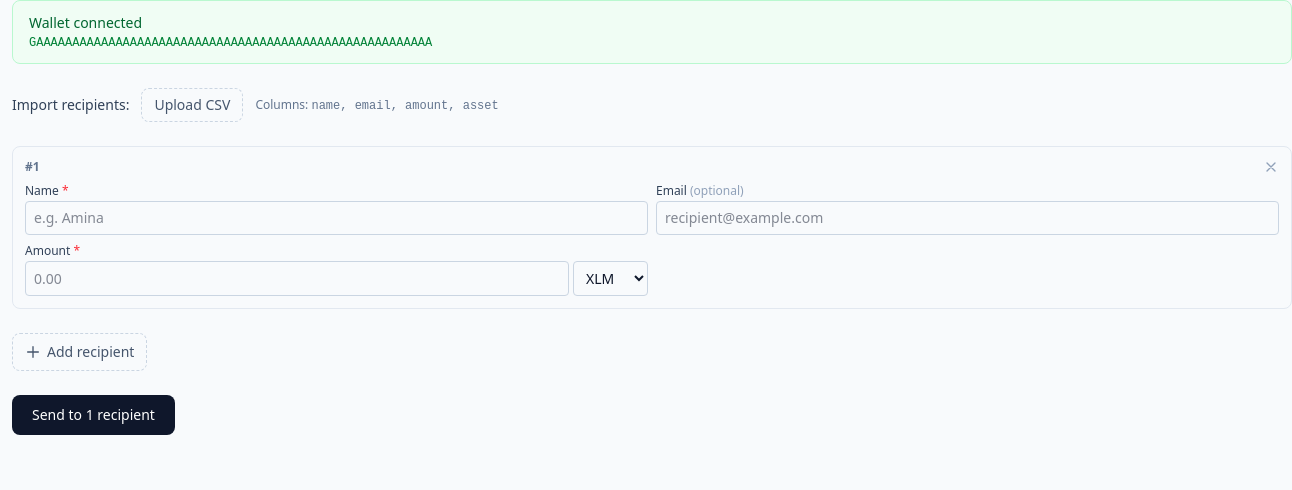
it: BatchSendForm › shows error state when account creation fails
Type "Bob" into the field labelled "Name *" at (336, 218), box [25, 201, 648, 235]
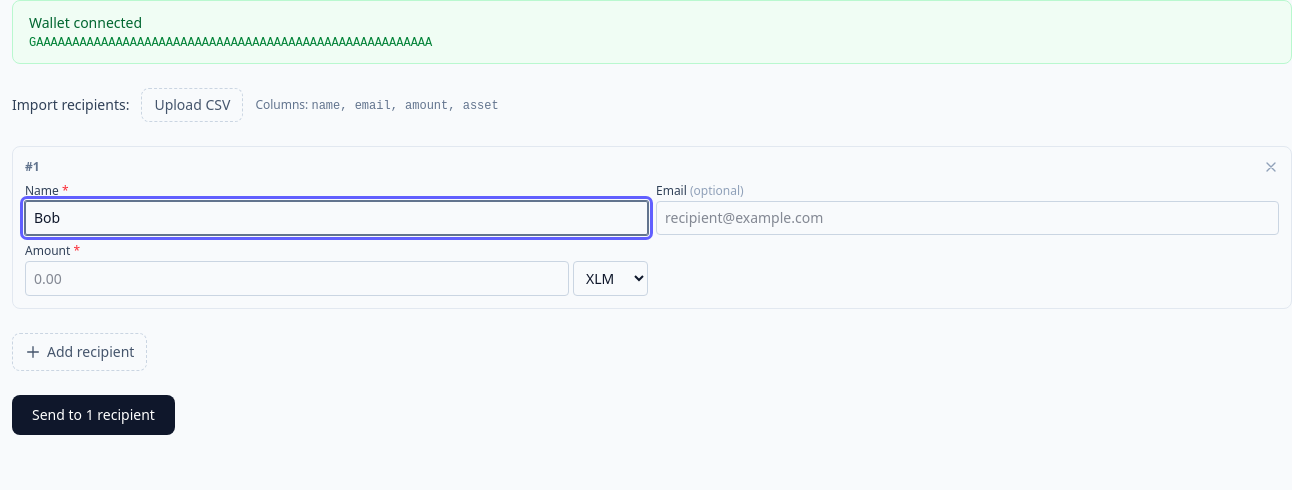
Type "5" into the number field labelled "Amount *" at (297, 278), box [25, 261, 569, 296]
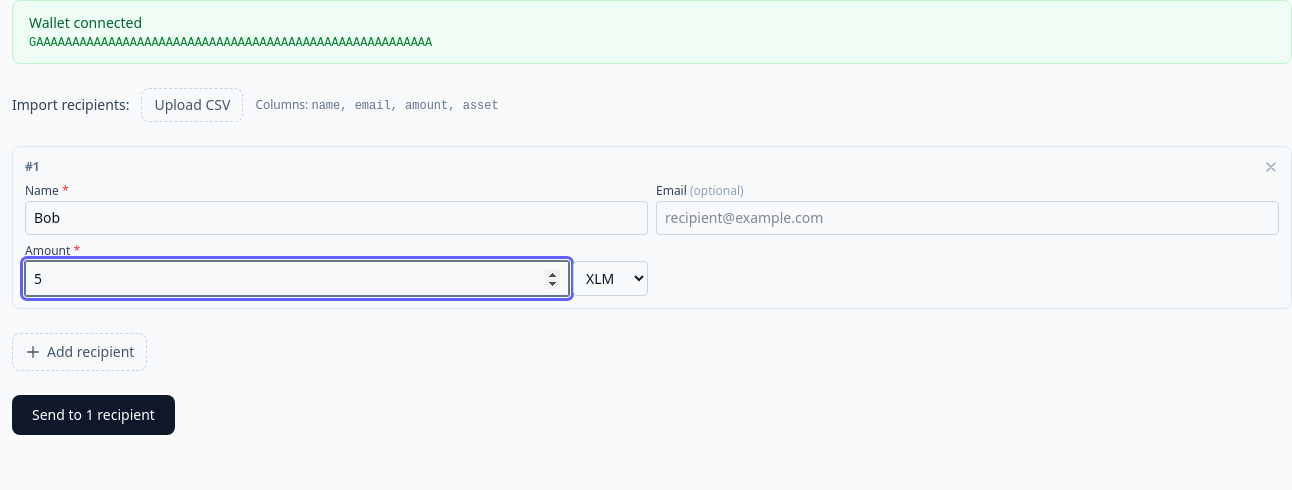
Click the button "Send to 1 recipient" at (93, 415), box [12, 395, 175, 435]
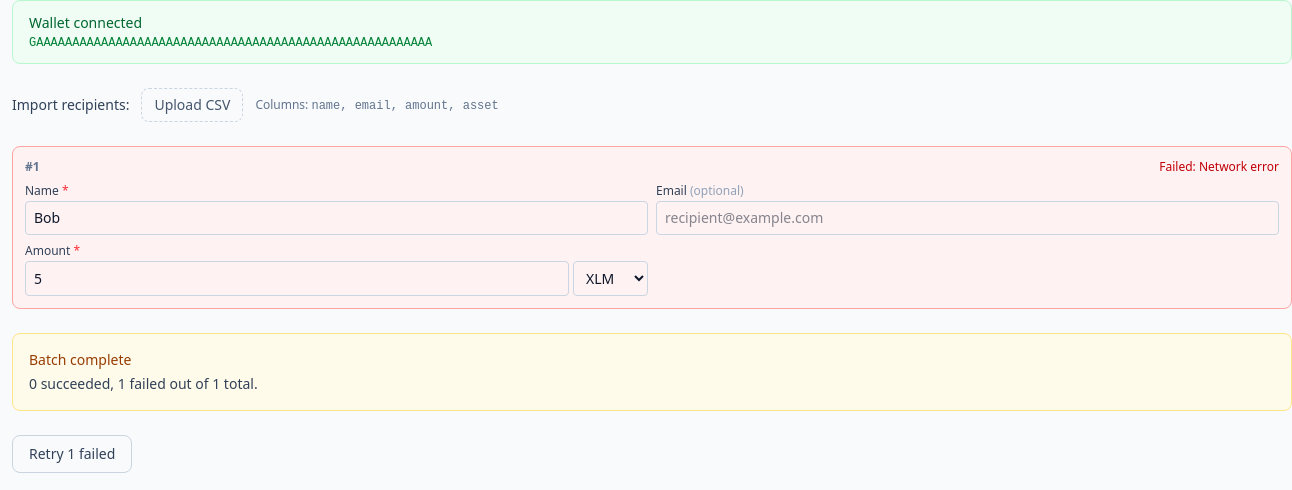
Expected: the text "Failed: Network error" is shown, [1159, 159, 1279, 175]
Expected: the message "Batch complete 0 succeeded, 1 failed out of 1 total." is shown, [12, 333, 1291, 411]
